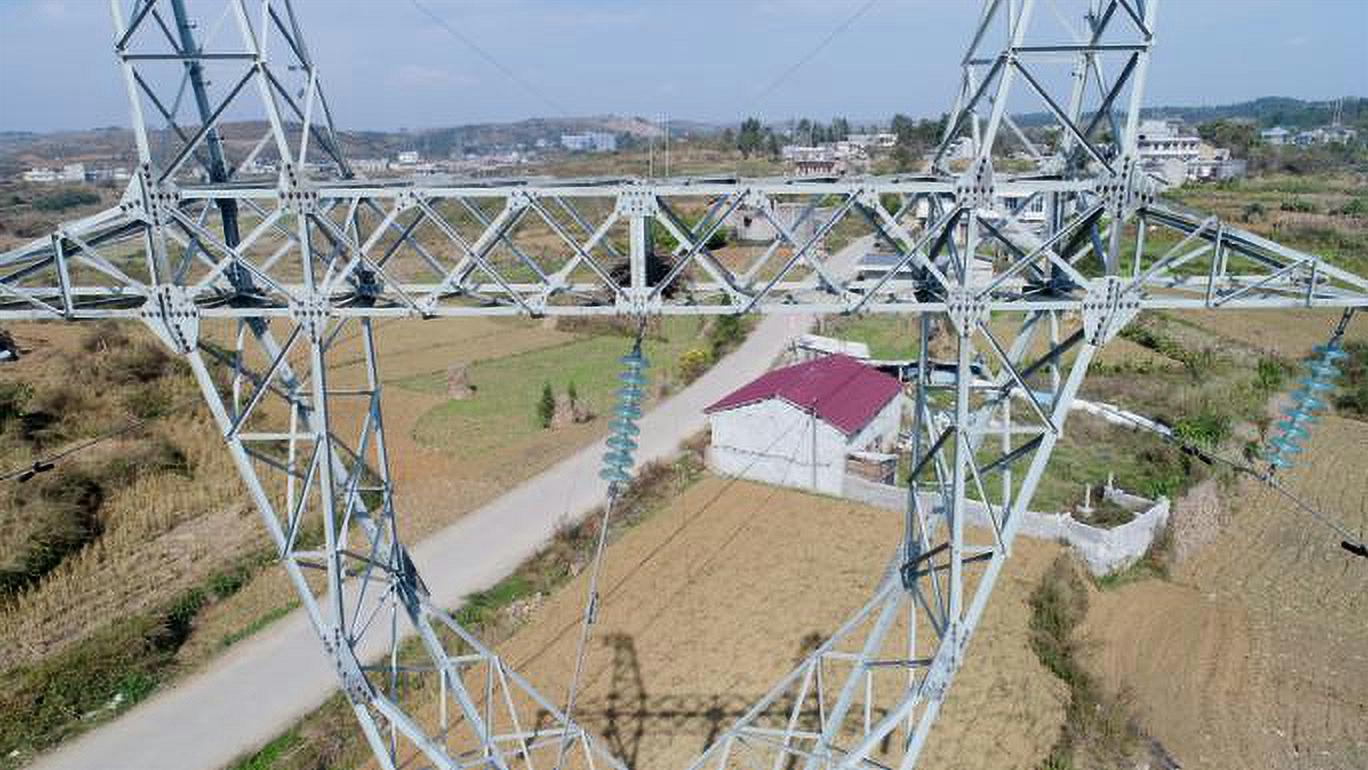insulator: (1254, 339, 1349, 473), (594, 351, 652, 490)
